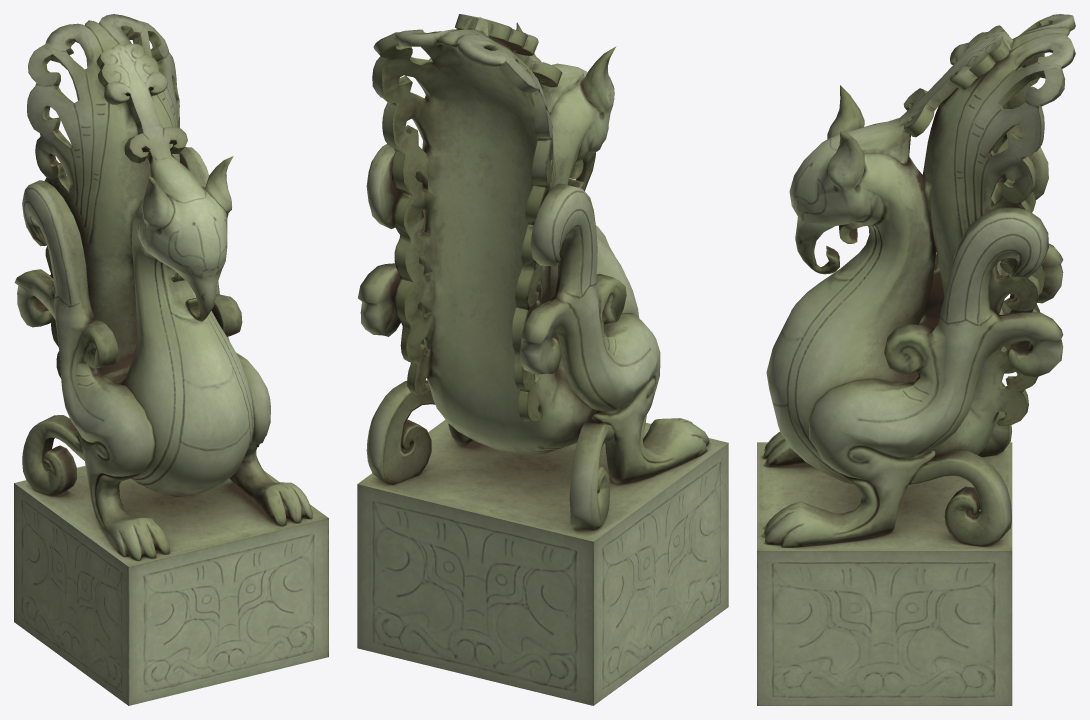
File: bape.glb
3 views of the same model, side by side, from view 1: azimuth 30°, elevation 25°; view 2: azimuth 150°, elevation 25°; view 3: azimuth 270°, elevation 25° (orthographic). The views are drawn at different scales.
Parts seen in each view (by area): view 1: defaultMaterial; view 2: defaultMaterial; view 3: defaultMaterial.
Part boxes in pixels (left/top/right/bottom): defaultMaterial: left=14, top=14, right=328, bottom=705; defaultMaterial: left=357, top=14, right=728, bottom=705; defaultMaterial: left=757, top=14, right=1075, bottom=705.
Size of the model in its own units: 0.0569 by 0.1519 by 0.0704.
Materials: 1 (1 with a texture image).
